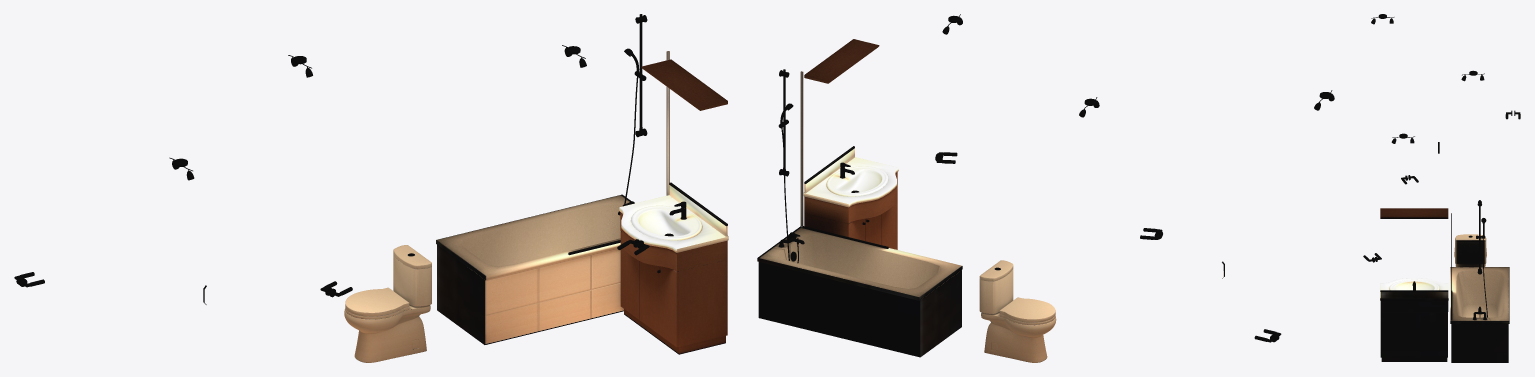
File: SM_Bath_F0.glb
3 renders of one model, left to right at view 1: azimuth 30°, elevation 25°; view 2: azimuth 150°, elevation 25°; view 3: azimuth 270°, elevation 25°, orthographic. The views are drawn at different scales.
Parts seen in each view (by area): view 1: SM_Bath_F0; view 2: SM_Bath_F0; view 3: SM_Bath_F0.
Part boxes in pixels (x1,y1,x2,y2): SM_Bath_F0: (14,14,728,362); SM_Bath_F0: (757,14,1334,362); SM_Bath_F0: (1363,14,1520,362).
Size of the model in its own units: 4.98 by 2.48 by 1.89.
Materials: 1 (1 with a texture image).
